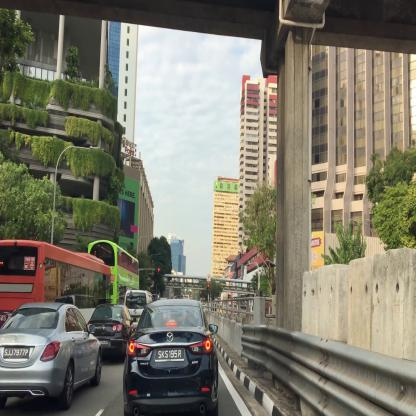red_traffic_light: (207, 282, 209, 294), (154, 267, 160, 271)
